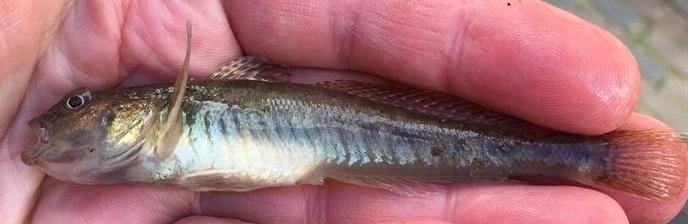Goby: (19, 22, 687, 209)
